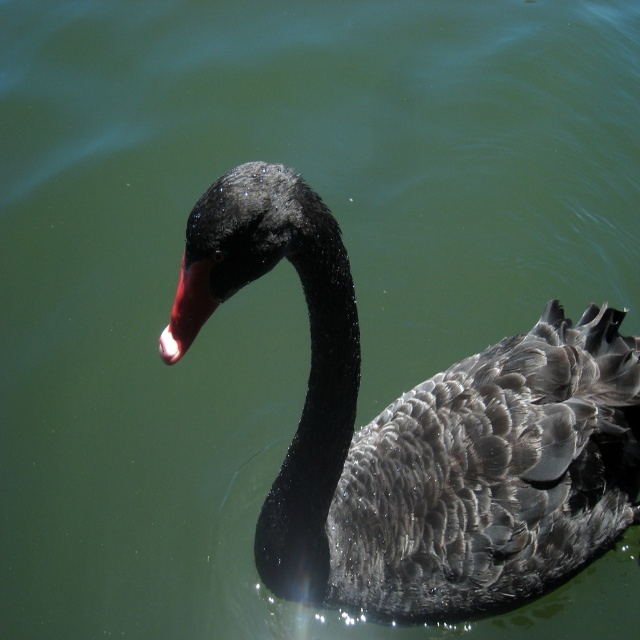Swan: (159, 161, 640, 625)
